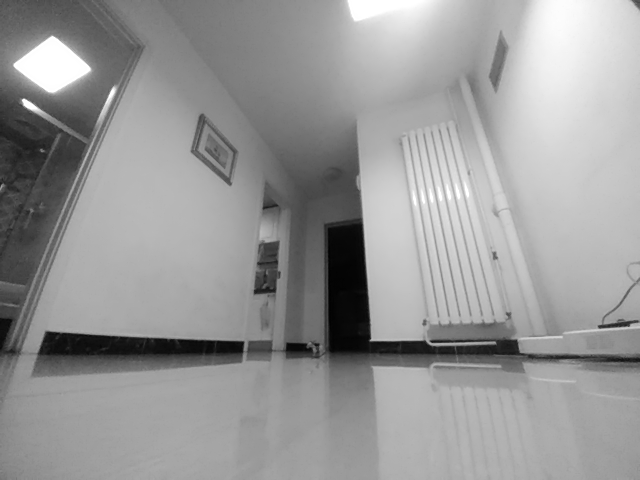toy: (305, 339, 328, 360)
